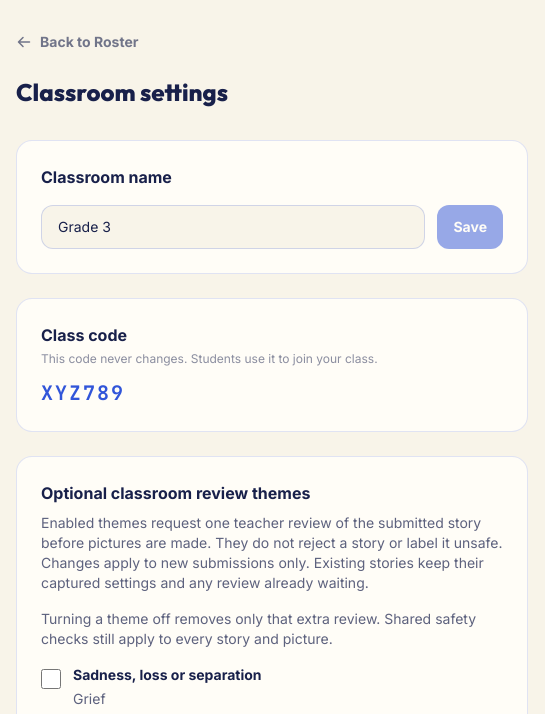
optional classroom review themes › keeps unsaved choices on failure and retries the save
Click the checkbox labelled "Sadness, loss or separation Grief Does not include: Goodbyes": click(51, 679) [41, 669, 61, 689]
(page scrolled)
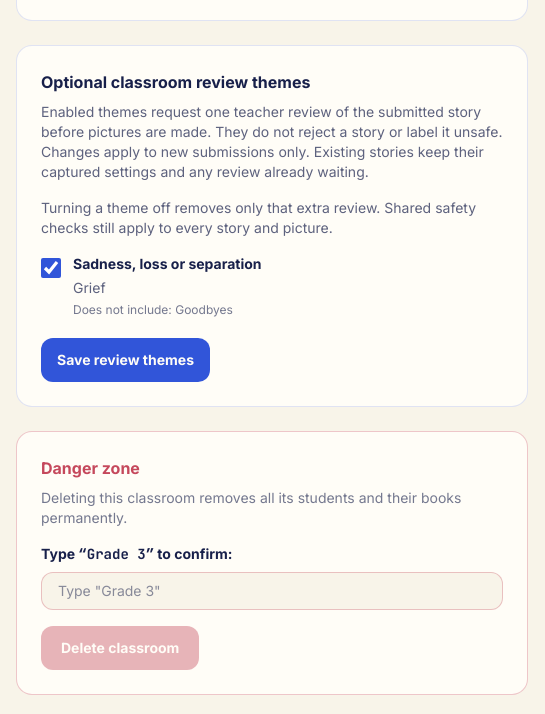
Click the button "Save review themes": click(126, 360) [41, 338, 210, 382]
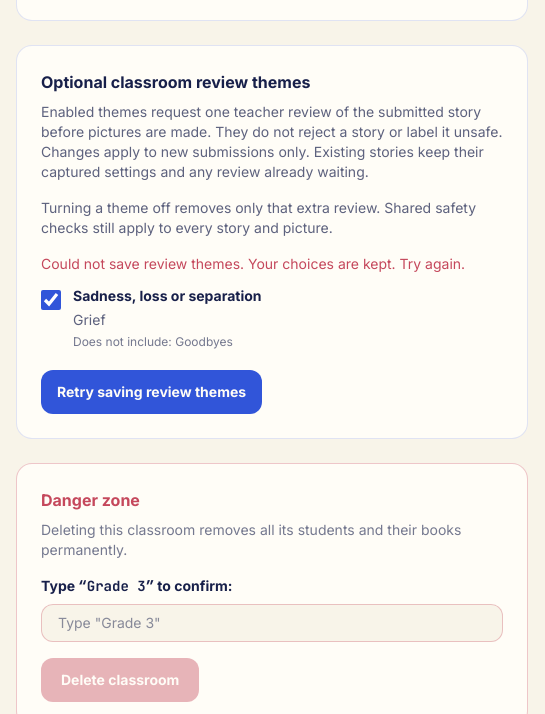
Expected: the text "Review themes saved" is not shown
Expected: the checkbox labelled "Sadness, loss or separation Grief Does not include: Goodbyes" is checked, [41, 290, 61, 310]
Expected: the message shows "Could not save review themes", [41, 255, 465, 272]
Click the button "Retry saving review themes": click(152, 392) [41, 370, 262, 414]
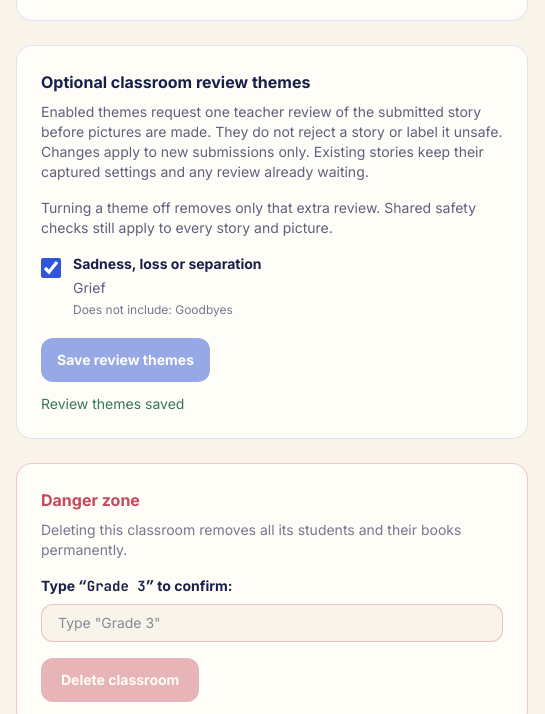
Expected: the text "Review themes saved" is shown, [41, 395, 184, 412]
